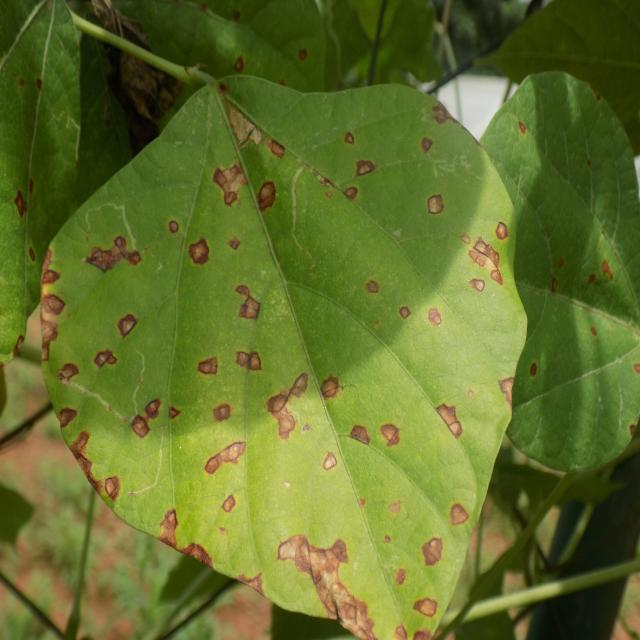Dolicos bean_cercospora leaf spot: (34, 85, 527, 640)
